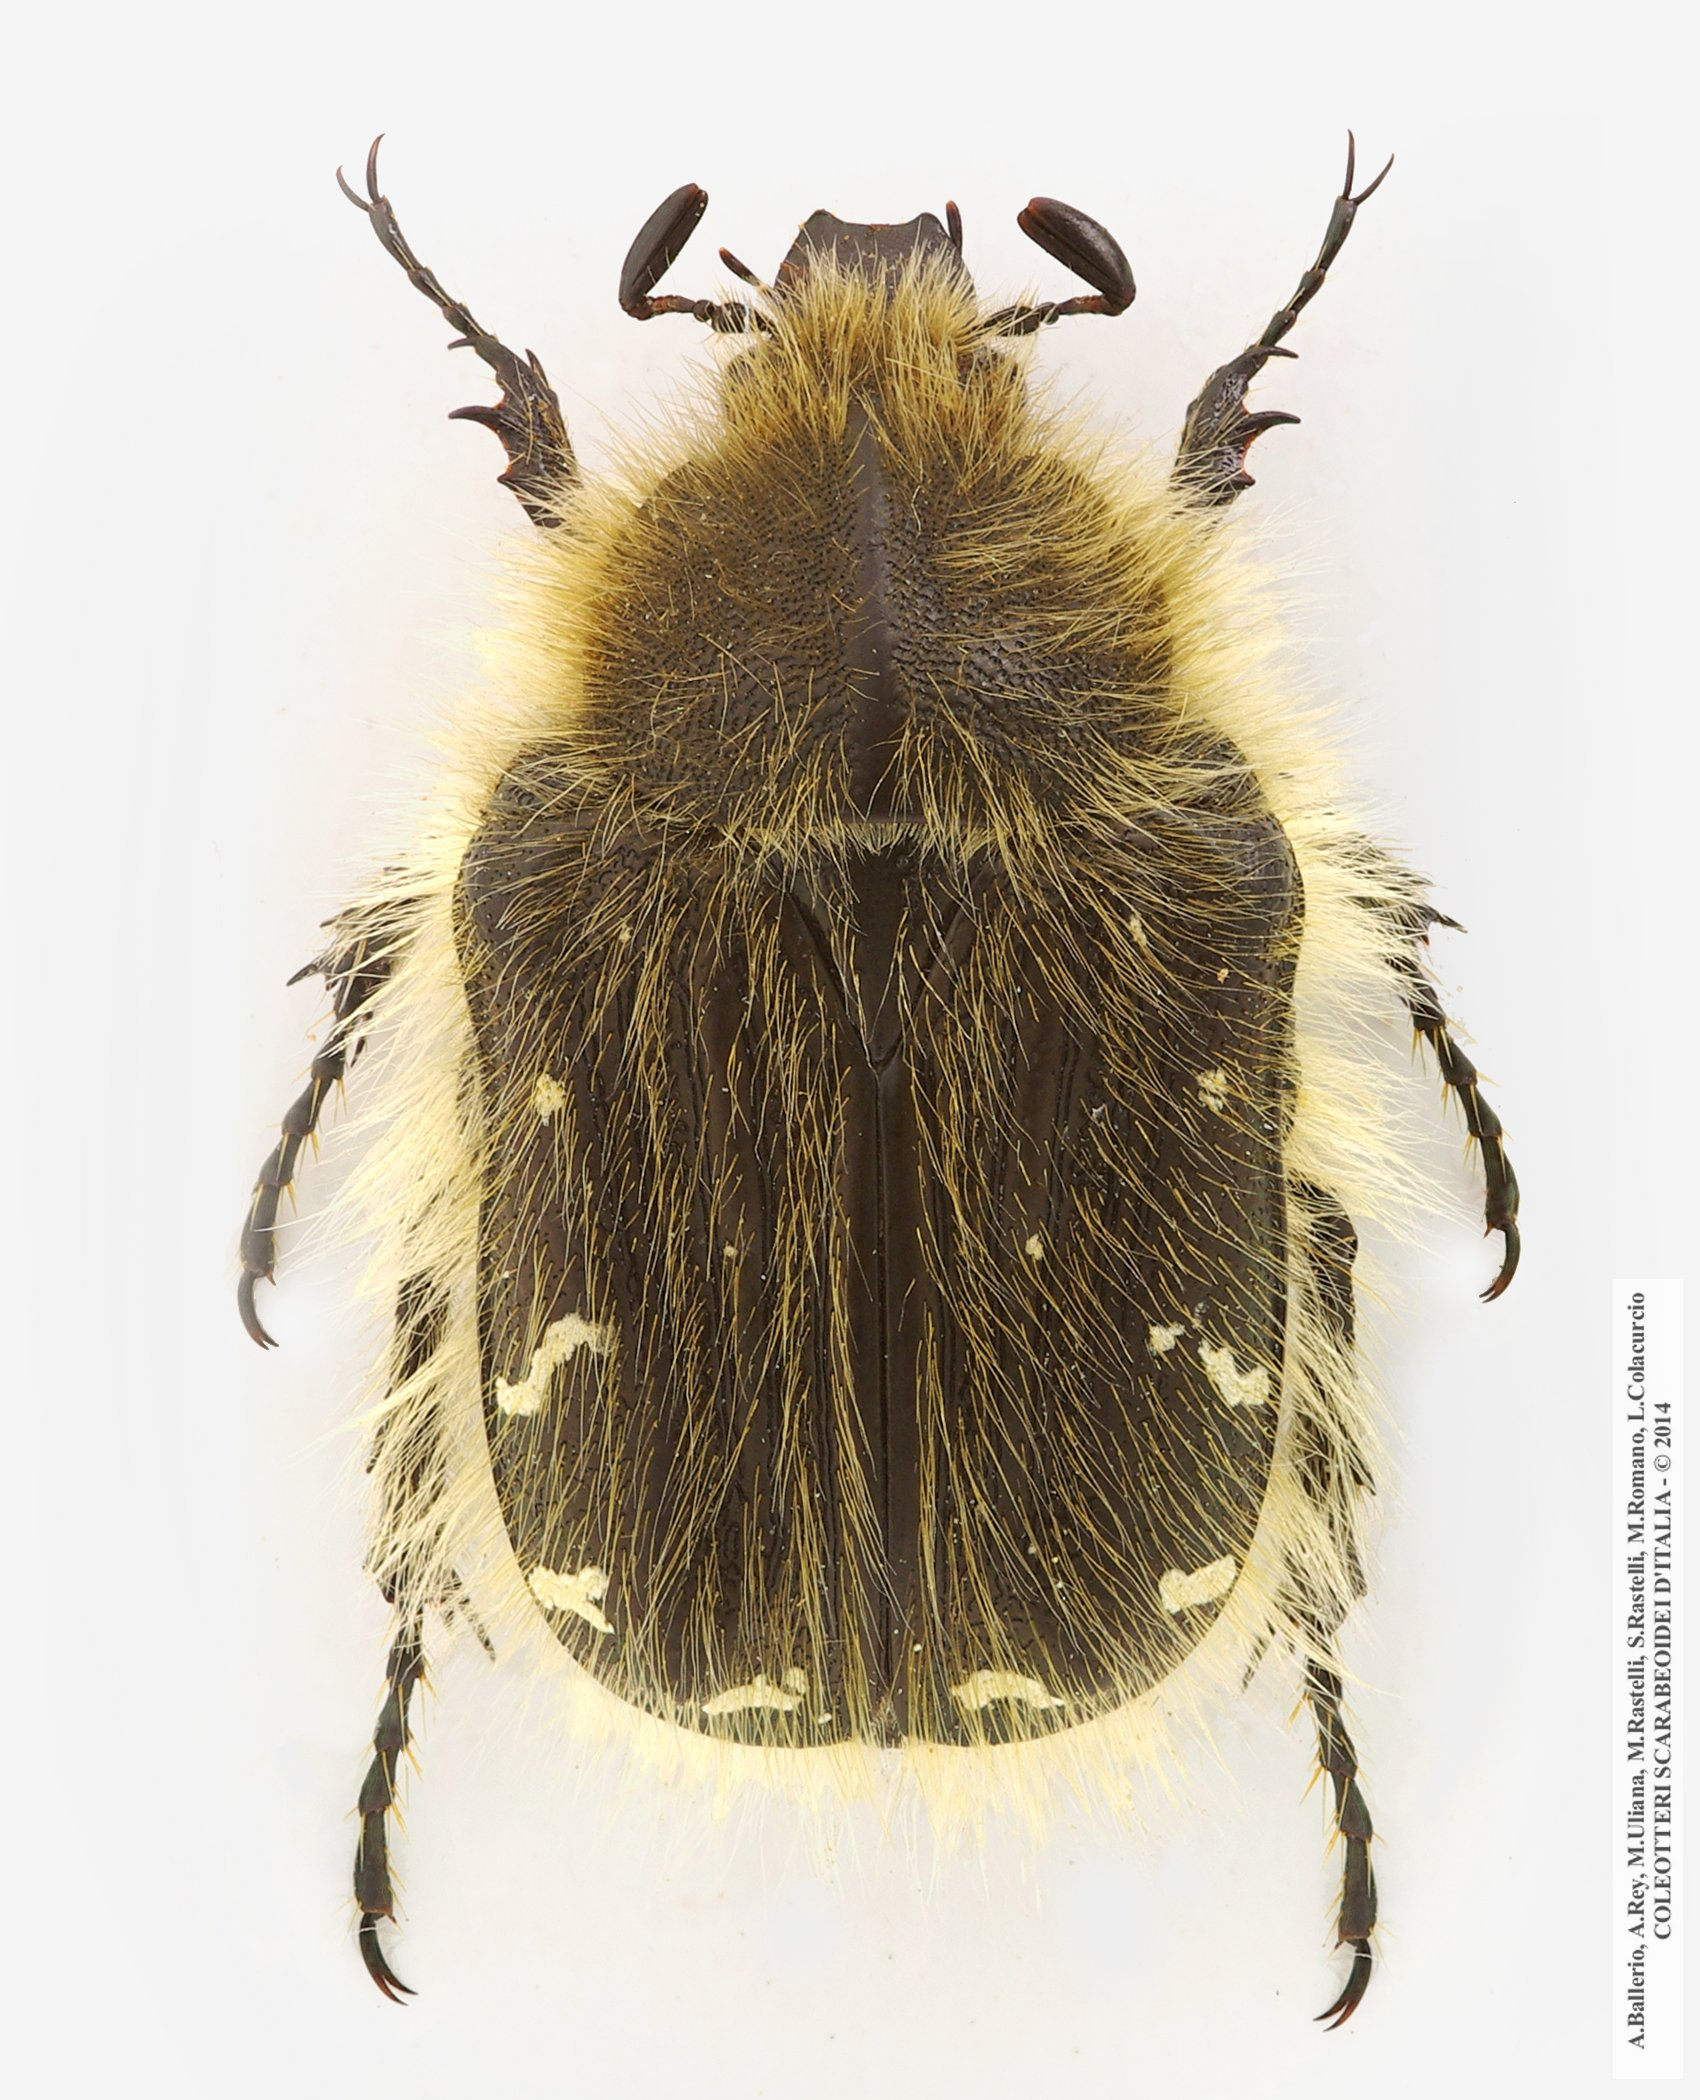Tropinota_hirta: (220, 55, 1547, 2038)
